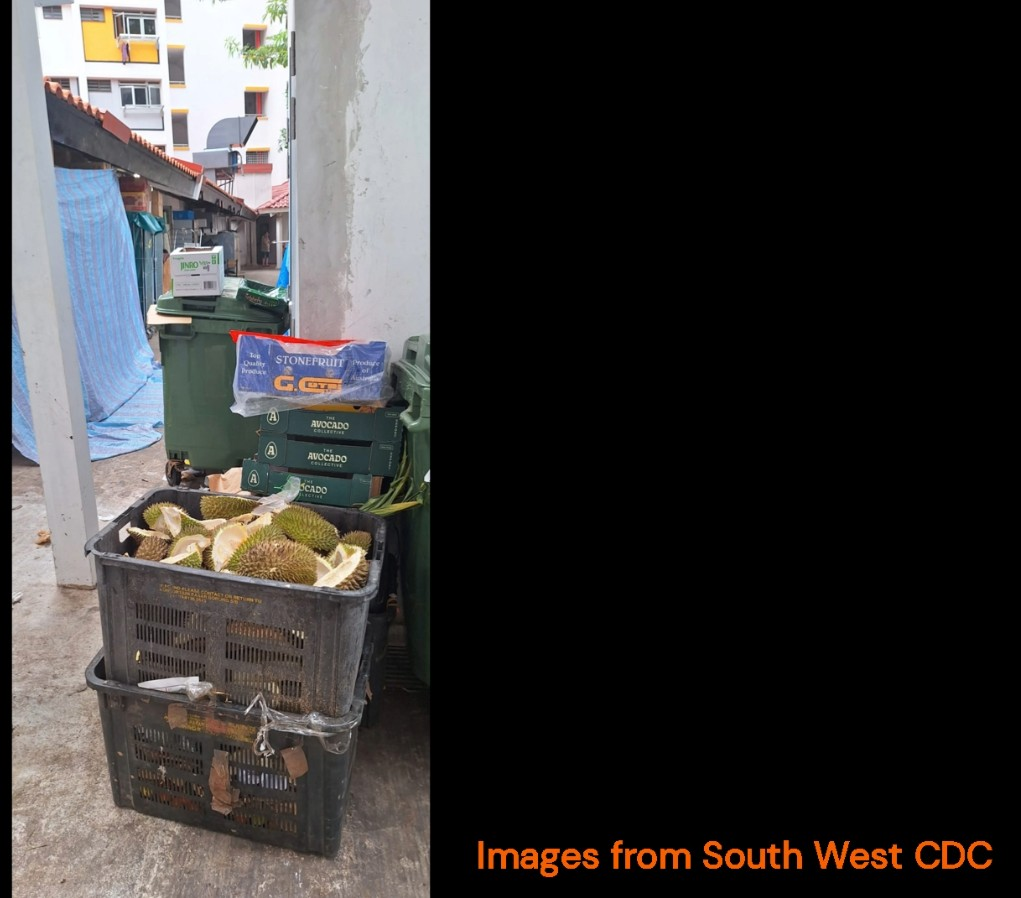bin_empty: (156, 278, 289, 472)
bulk_waste: (85, 487, 387, 715), (87, 653, 357, 856), (231, 331, 391, 416), (256, 408, 402, 475), (241, 460, 373, 506), (170, 248, 223, 295)
